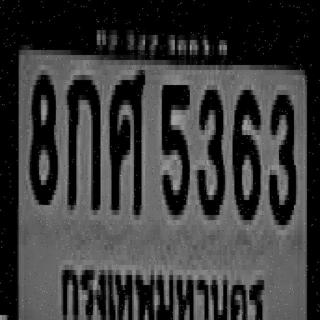A01: (65, 70, 99, 205)
A38: (108, 65, 143, 210)
N03: (195, 85, 223, 210), (268, 90, 294, 220)
N05: (160, 80, 188, 210)
N06: (231, 85, 259, 215)
N08: (28, 70, 56, 200)
P04: (57, 260, 268, 320)
